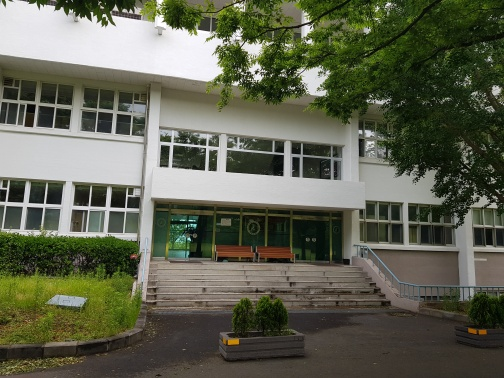Main Building of University: (5, 7, 503, 318), (137, 77, 396, 327)
